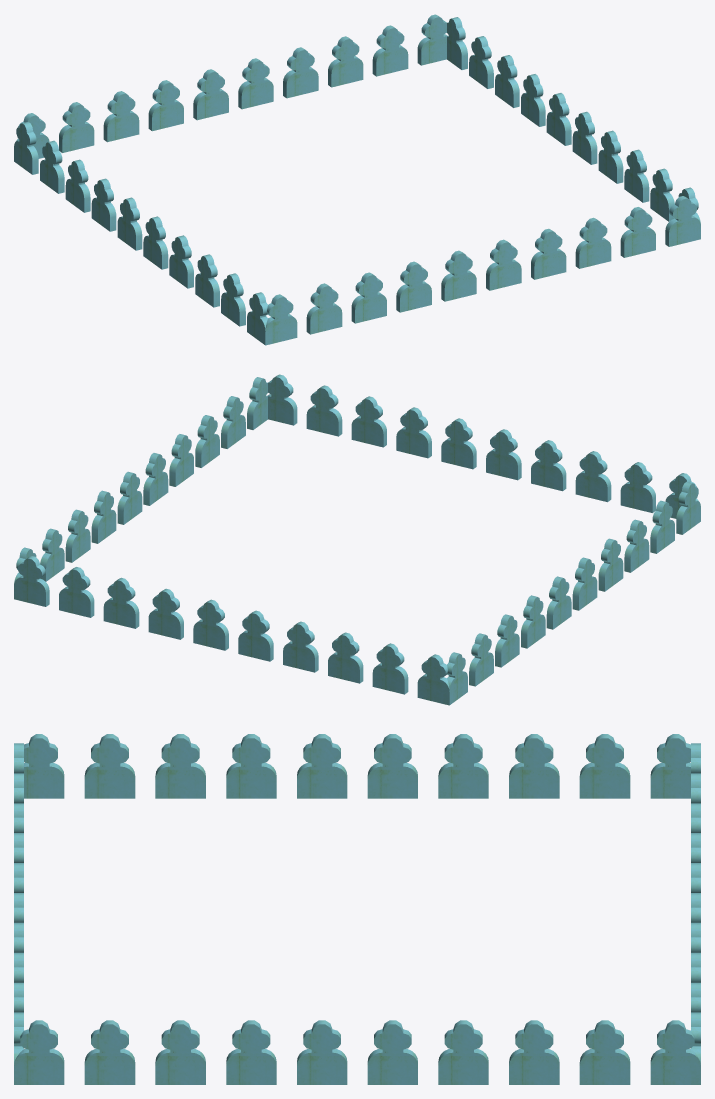
The model's file is BoxTop.FBX.
3 views of the same model, one above another, from view 1: azimuth 30°, elevation 25°; view 2: azimuth 150°, elevation 25°; view 3: azimuth 270°, elevation 25° (orthographic). The views are drawn at different scales.
Visible parts, largest first — view 1: Group_001; view 2: Group_001; view 3: Group_001.
Boxes of the visible parts, left/top/right/bottom form: Group_001: left=14, top=14, right=700, bottom=345; Group_001: left=14, top=374, right=700, bottom=705; Group_001: left=14, top=734, right=700, bottom=1084.
Bounding box in the file's own units: 5 × 0.4851 × 5.
